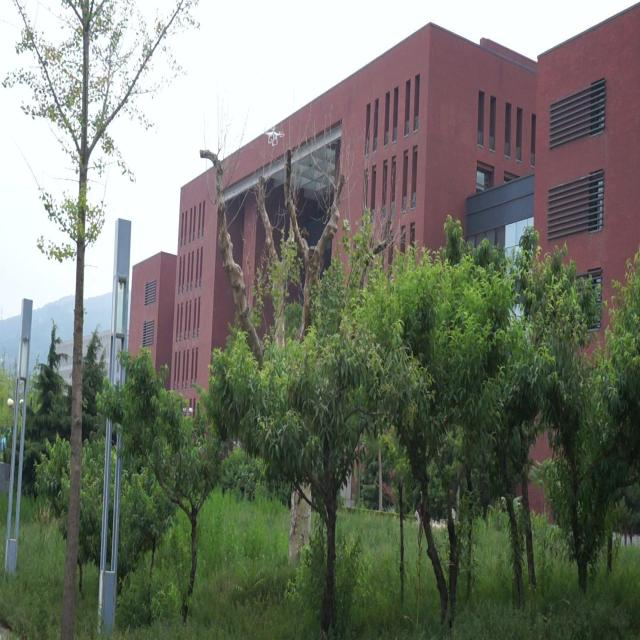drone: (262, 120, 286, 150)
